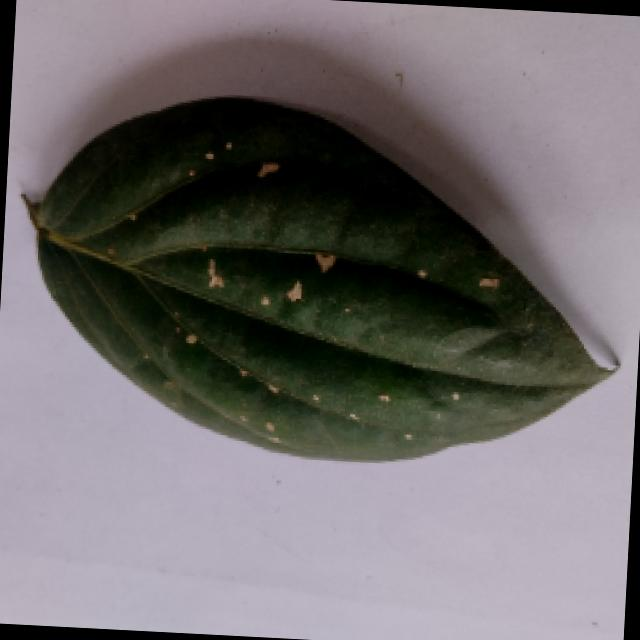pollu-disease: (13, 64, 640, 478)
